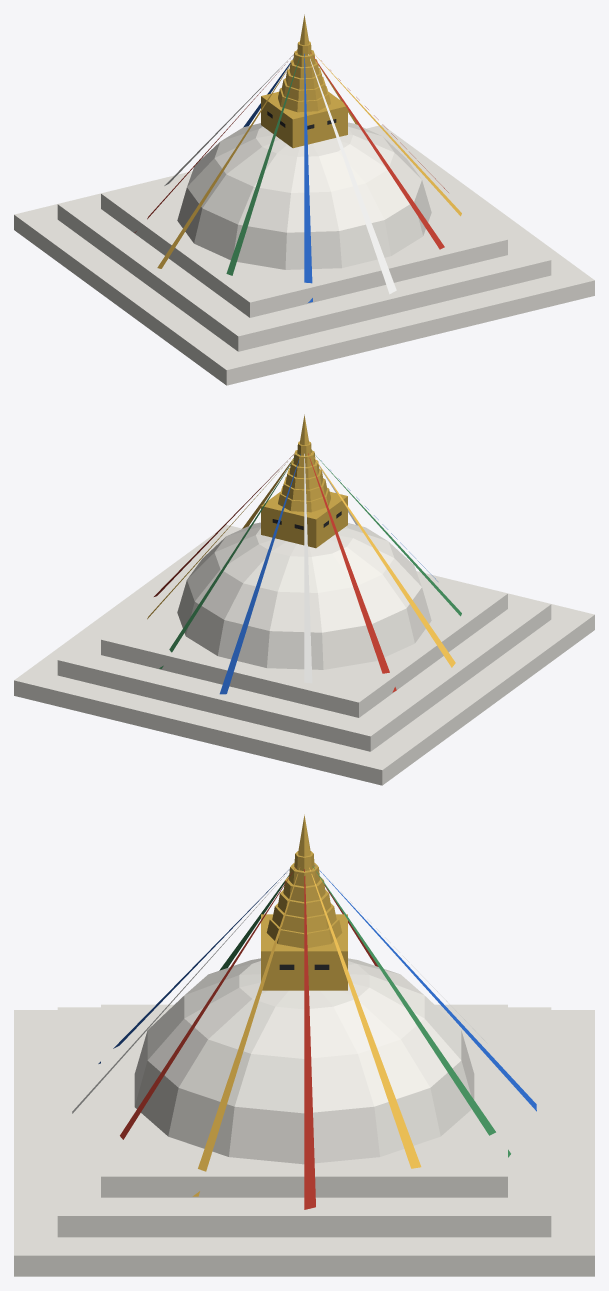
Rendered from stupa_boudha.glb.
3 views of the same model, one above another, from view 1: azimuth 30°, elevation 25°; view 2: azimuth 150°, elevation 25°; view 3: azimuth 270°, elevation 25° (orthographic). The views are drawn at different scales.
Visible parts, largest first — view 1: stupa_boudha; view 2: stupa_boudha; view 3: stupa_boudha.
Part boxes in pixels (bbox=[...]): stupa_boudha: bbox=[14, 14, 594, 385]; stupa_boudha: bbox=[14, 414, 594, 785]; stupa_boudha: bbox=[14, 814, 594, 1276].
Bounding box in the file's own units: 40 × 25.8 × 40.
Materials: 1 (1 with a texture image).
